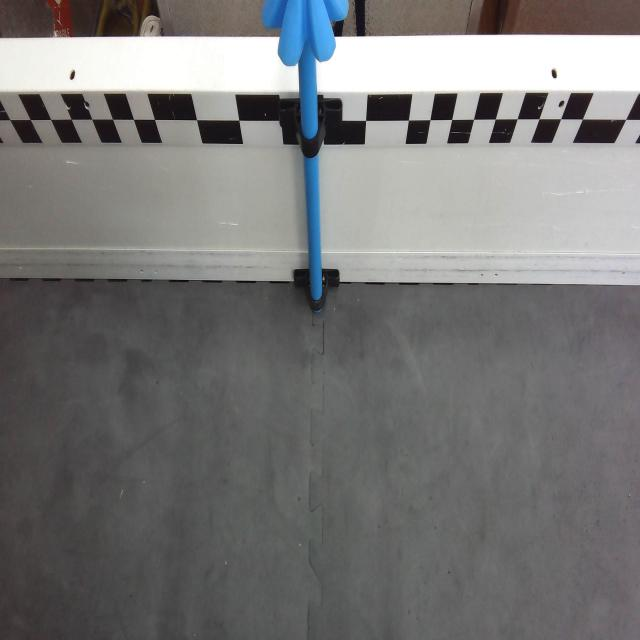zblue-Stake-Head: (261, 0, 350, 72)
